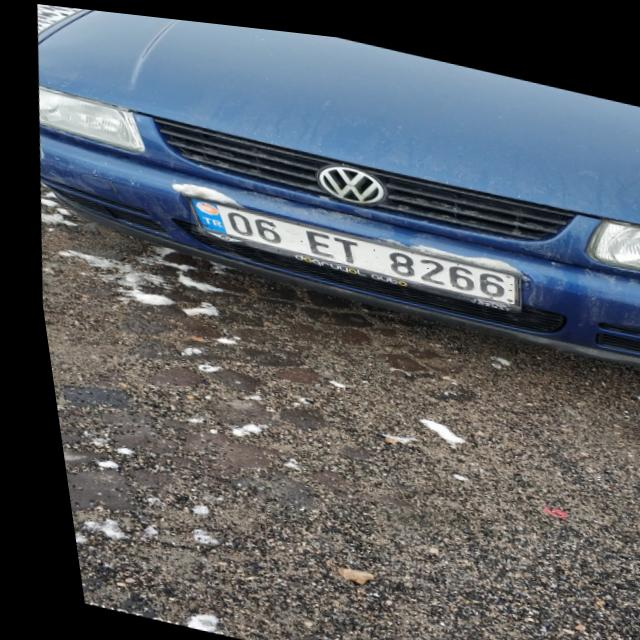license_plate: (180, 193, 518, 298)
